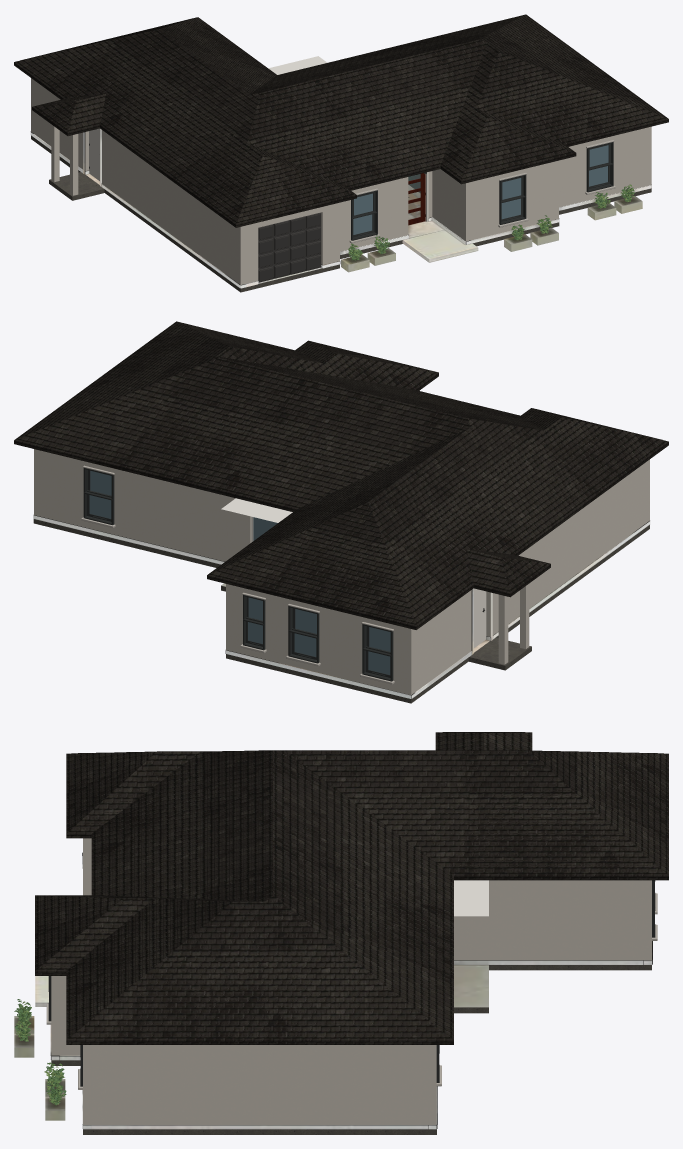
The model's file is utah-exterior-v3.glb.
3 views of the same model, one above another, from view 1: azimuth 30°, elevation 25°; view 2: azimuth 150°, elevation 25°; view 3: azimuth 270°, elevation 25° (orthographic). The views are drawn at different scales.
Visible parts, largest first — view 1: [Roofing Shingles GAF Estates] · 2026 finish, <auto>1 · 2026 finish, Exterior / asphalt shingle edges, Baked interior, Exterior / satin garage panels, Concrete_02_1K, Utah · vidrio claro, Exterior / graphite window rebates, RPC · Herrajes grafito, [Color A04] · 2026 finish, Utah annex door, RPC · Garaje · acero pintado greige (+3 smaller); view 2: [Roofing Shingles GAF Estates] · 2026 finish, <auto>1 · 2026 finish, Exterior / asphalt shingle edges, Concrete_02_1K, Utah · vidrio claro, Baked interior, Exterior / graphite window rebates, RPC · Herrajes grafito, RPC · Cielo raso blanco, Exterior / limestone sills, Utah annex door; view 3: [Roofing Shingles GAF Estates] · 2026 finish, <auto>1 · 2026 finish, Exterior / asphalt shingle edges, Baked interior, Concrete_02_1K, RPC · Cielo raso blanco, Exterior / graphite window rebates.
Boxes of the visible parts, x1,y1,x2,y2 form: [Roofing Shingles GAF Estates] · 2026 finish: (14, 14, 668, 227); <auto>1 · 2026 finish: (31, 78, 651, 284); Exterior / asphalt shingle edges: (19, 15, 662, 220); Baked interior: (30, 128, 651, 288); Exterior / satin garage panels: (258, 212, 320, 282); Concrete_02_1K: (31, 135, 651, 292); Utah · vidrio claro: (353, 145, 608, 234); Exterior / graphite window rebates: (351, 142, 613, 240); RPC · Herrajes grafito: (353, 143, 611, 238); [Color A04] · 2026 finish: (408, 173, 425, 225); Utah annex door: (89, 128, 99, 180); RPC · Garaje · acero pintado greige: (258, 216, 320, 278); [Roofing Shingles GAF Estates] · 2026 finish: (14, 321, 668, 629); <auto>1 · 2026 finish: (34, 390, 649, 694); Exterior / asphalt shingle edges: (21, 322, 662, 621); Concrete_02_1K: (33, 519, 649, 703); Utah · vidrio claro: (89, 471, 390, 674); Baked interior: (33, 515, 650, 698); Exterior / graphite window rebates: (83, 468, 393, 681); RPC · Herrajes grafito: (86, 469, 390, 678); RPC · Cielo raso blanco: (221, 498, 292, 522); Exterior / limestone sills: (81, 465, 394, 684); Utah annex door: (473, 588, 486, 648); [Roofing Shingles GAF Estates] · 2026 finish: (35, 732, 668, 1044); <auto>1 · 2026 finish: (51, 838, 651, 1124); Exterior / asphalt shingle edges: (40, 732, 664, 1035); Baked interior: (14, 852, 652, 1129); Concrete_02_1K: (51, 965, 651, 1134); RPC · Cielo raso blanco: (454, 880, 488, 916); Exterior / graphite window rebates: (48, 880, 655, 1086).
Size of the model in its own units: 17.58 by 4.6 by 15.79.
21 materials, 8 textured.
